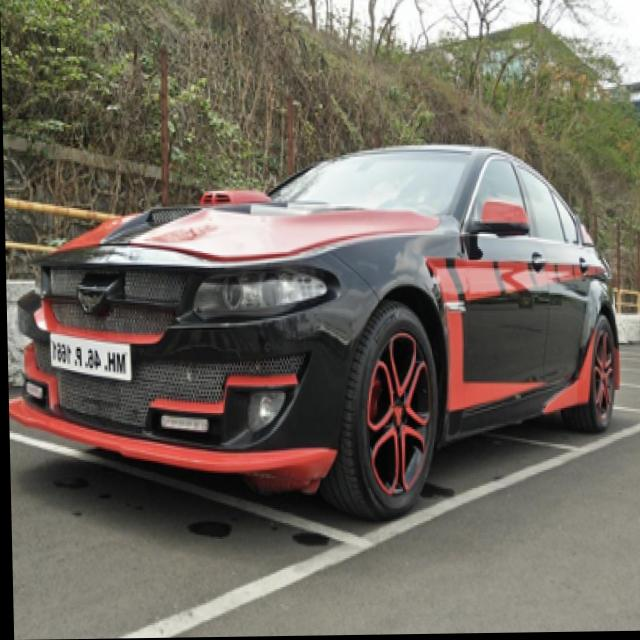licence: (48, 342, 130, 371)
